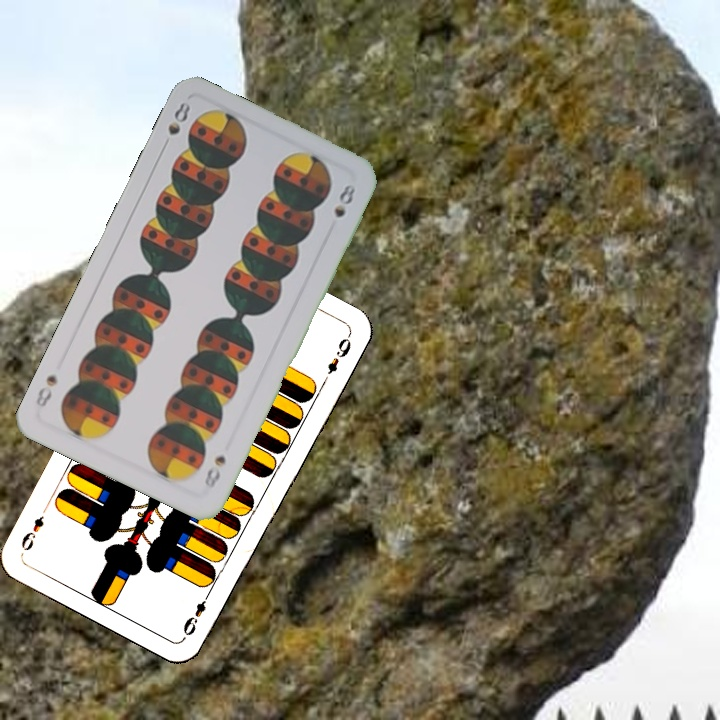E9: (179, 586, 214, 640)
S8: (157, 98, 193, 153), (200, 451, 229, 491)
